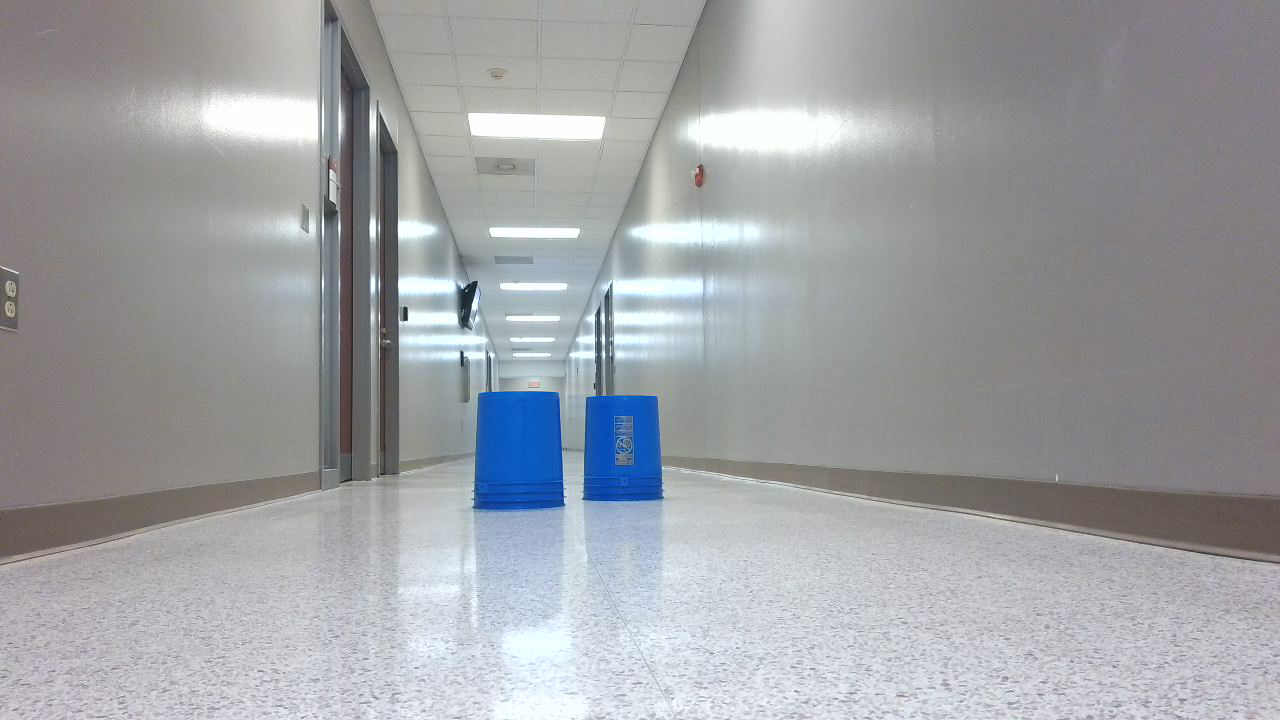blue_bucket: (476, 395, 573, 517), (585, 401, 671, 509)
